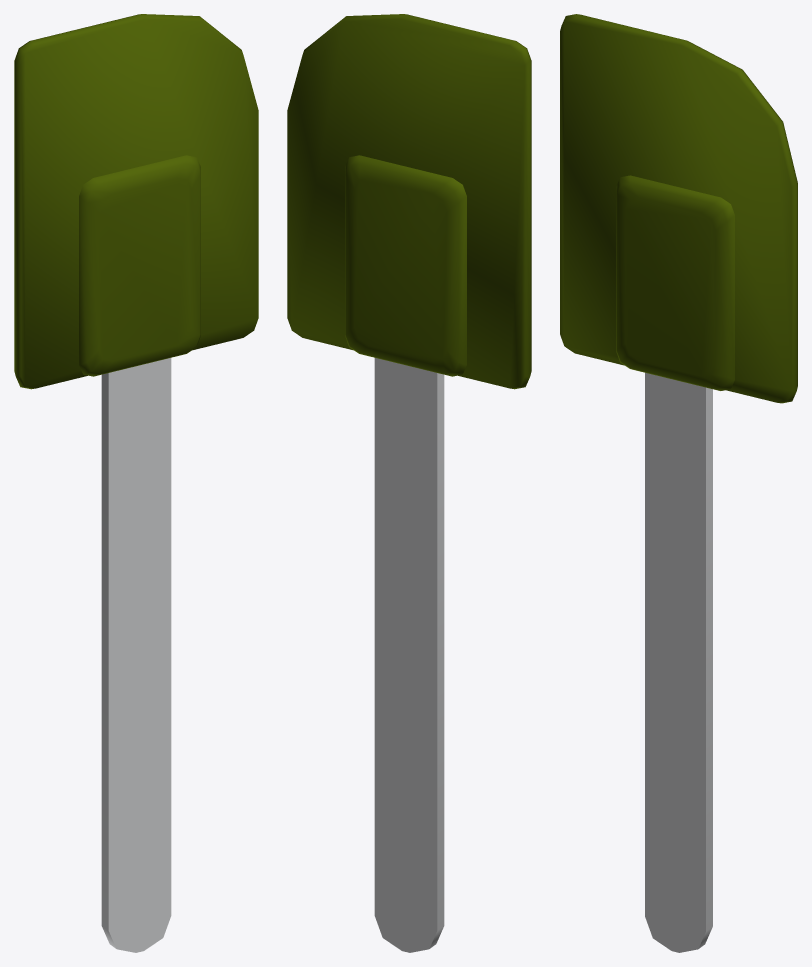
File: cutensils_spatula_rubber_green.glb
3 renders of one model, left to right at view 1: azimuth 30°, elevation 25°; view 2: azimuth 150°, elevation 25°; view 3: azimuth 330°, elevation 25°, orthographic. The views are drawn at different scales.
Visible parts, largest first — view 1: cutensils spatula rubber green; view 2: cutensils spatula rubber green; view 3: cutensils spatula rubber green.
Part boxes in pixels (bbox=[...]): cutensils spatula rubber green: bbox=[14, 14, 258, 952]; cutensils spatula rubber green: bbox=[287, 14, 531, 952]; cutensils spatula rubber green: bbox=[560, 14, 797, 952].
Size of the model in its own units: 1.86 by 6.88 by 0.2312.
1 material, 1 textured.
